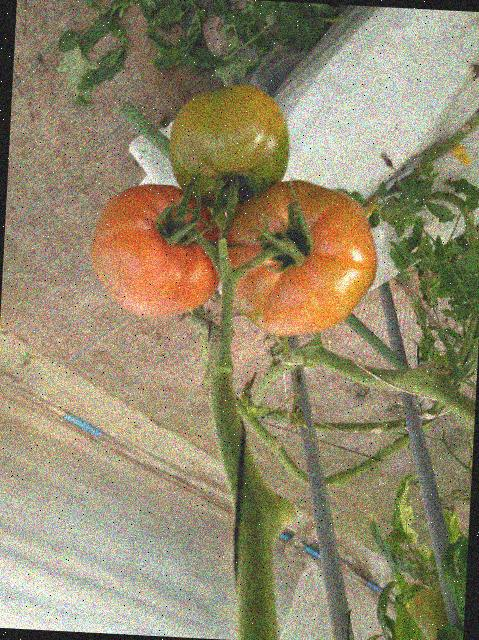b_green: (406, 587, 451, 640)
b_half_ripened: (215, 175, 382, 342), (86, 181, 227, 322), (166, 82, 292, 214)
